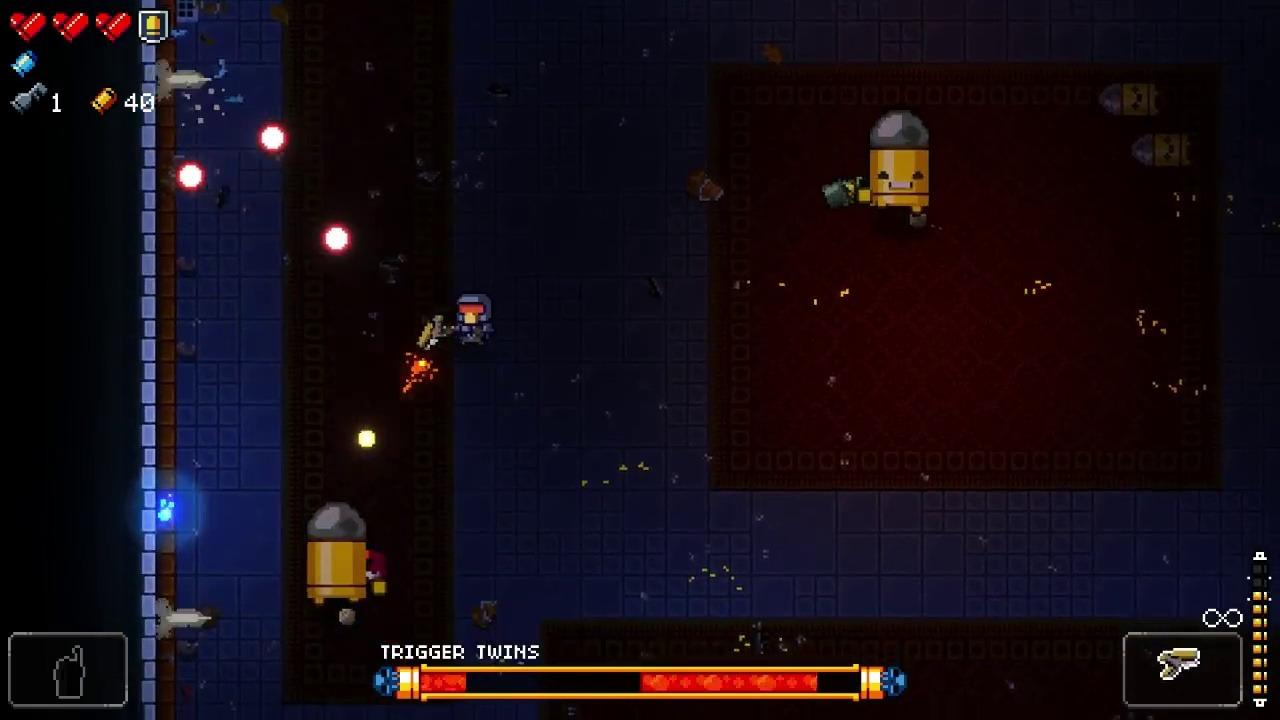boss_shades: (306, 503, 369, 607)
boss_smiley: (871, 110, 930, 213)
bullet: (176, 158, 206, 192), (256, 124, 288, 155), (322, 226, 354, 255)
dead_bullet_kin: (1096, 82, 1159, 119), (1134, 134, 1193, 168)
player: (454, 294, 496, 350)
